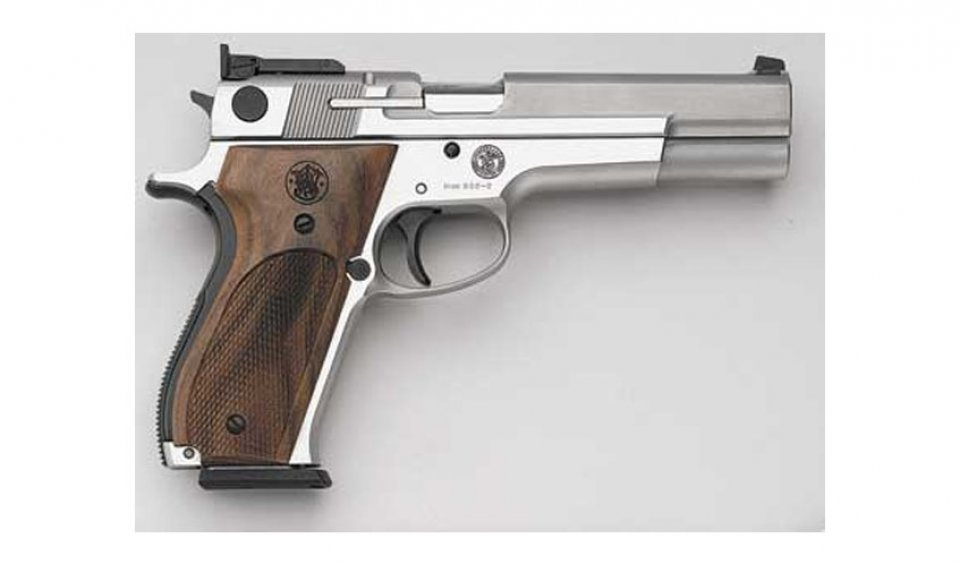Arma Real: (145, 41, 799, 496)
